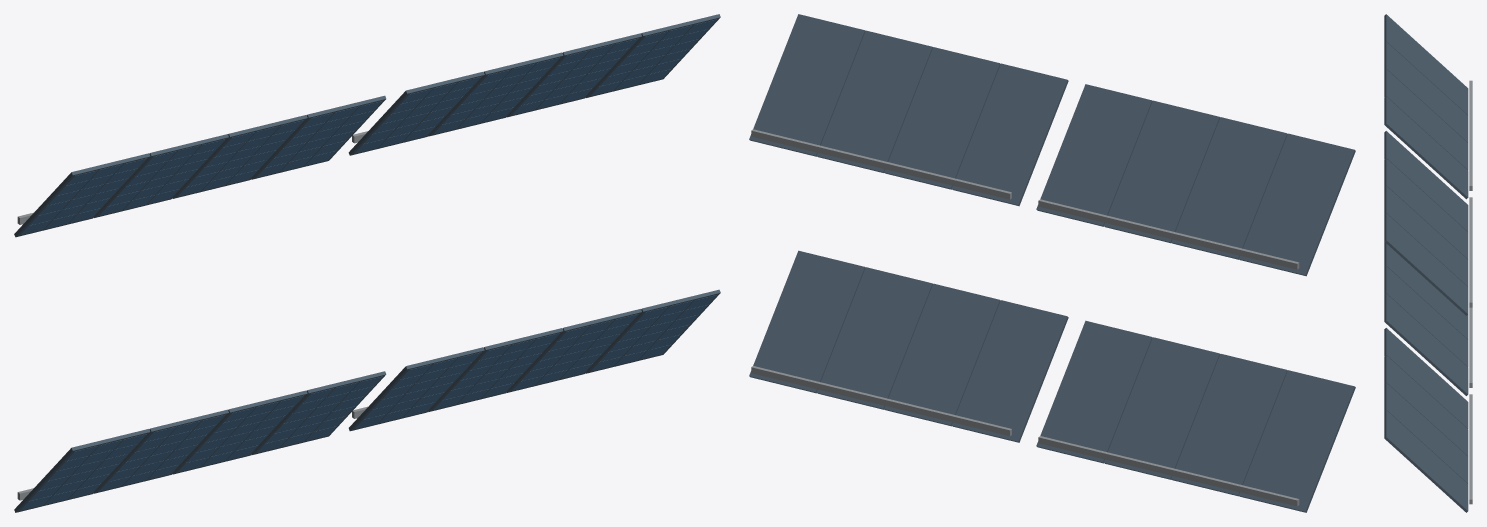
Rendered from solar_portatil_solo.glb.
The picture shows the model from 3 angles, left to right: view 1: azimuth 30°, elevation 25°; view 2: azimuth 150°, elevation 25°; view 3: azimuth 270°, elevation 25°; orthographic projection. The views are drawn at different scales.
Parts seen in each view (by area): view 1: 170_painel3_dobra1, 93_painel2_dobra1, 16_painel1_dobra1, 247_painel4_dobra1, 285_painel4_dobra3, 266_painel4_dobra2, 54_painel1_dobra3, 150_painel2_dobra4, 35_painel1_dobra2, 73_painel1_dobra4, 304_painel4_dobra4, 227_painel3_dobra4 (+4 smaller); view 2: 170_painel3_dobra1, 16_painel1_dobra1, 93_painel2_dobra1, 247_painel4_dobra1, 227_painel3_dobra4, 54_painel1_dobra3, 112_painel2_dobra2, 285_painel4_dobra3, 150_painel2_dobra4, 304_painel4_dobra4, 73_painel1_dobra4, 208_painel3_dobra3 (+8 smaller); view 3: 150_painel2_dobra4, 227_painel3_dobra4, 304_painel4_dobra4, 73_painel1_dobra4, 112_painel2_dobra2, 93_painel2_dobra1, 131_painel2_dobra3, 208_painel3_dobra3, 16_painel1_dobra1, 266_painel4_dobra2, 54_painel1_dobra3, 247_painel4_dobra1 (+7 smaller).
Boxes of the visible parts, x1,y1,x2,y2 form: 170_painel3_dobra1: (14,429,150,512); 93_painel2_dobra1: (348,71,484,155); 16_painel1_dobra1: (14,153,150,237); 247_painel4_dobra1: (348,347,484,431); 285_painel4_dobra3: (507,309,641,392); 266_painel4_dobra2: (428,328,563,411); 54_painel1_dobra3: (172,115,307,198); 150_painel2_dobra4: (585,14,720,97); 35_painel1_dobra2: (94,134,228,217); 73_painel1_dobra4: (251,95,386,179); 304_painel4_dobra4: (585,289,720,373); 227_painel3_dobra4: (251,371,386,455); 170_painel3_dobra1: (1239,370,1355,512); 16_painel1_dobra1: (1239,133,1355,276); 93_painel2_dobra1: (952,63,1068,206); 247_painel4_dobra1: (952,300,1068,442); 227_painel3_dobra4: (1036,320,1152,463); 54_painel1_dobra3: (1104,100,1220,243); 112_painel2_dobra2: (884,47,1000,189); 285_painel4_dobra3: (816,267,932,409); 150_painel2_dobra4: (749,14,865,156); 304_painel4_dobra4: (749,250,865,393); 73_painel1_dobra4: (1036,84,1152,226); 208_painel3_dobra3: (1104,337,1220,479); 150_painel2_dobra4: (1384,213,1468,315); 227_painel3_dobra4: (1384,293,1468,395); 304_painel4_dobra4: (1384,410,1468,512); 73_painel1_dobra4: (1384,96,1468,199); 112_painel2_dobra2: (1384,158,1468,259); 93_painel2_dobra1: (1384,131,1468,231); 131_painel2_dobra3: (1384,185,1468,286); 208_painel3_dobra3: (1384,266,1468,366); 16_painel1_dobra1: (1384,14,1468,115); 266_painel4_dobra2: (1384,355,1468,456); 54_painel1_dobra3: (1384,69,1468,169); 247_painel4_dobra1: (1384,328,1468,428).
Size of the model in its own units: 4.92 by 2.77 by 0.8122.
